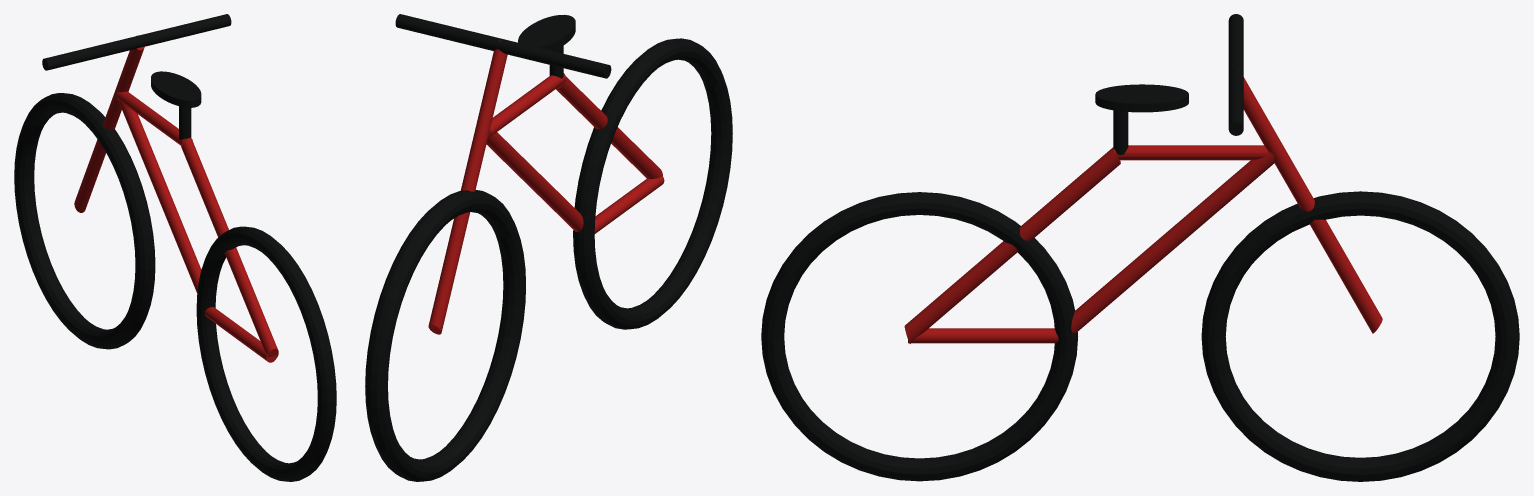
The model's file is Fahrrad.obj.
3 renders of one model, left to right at view 1: azimuth 30°, elevation 25°; view 2: azimuth 150°, elevation 25°; view 3: azimuth 270°, elevation 25°, orthographic. The views are drawn at different scales.
Parts seen in each view (by area): view 1: ReifenVorn_Torus.002, ReifenHinten_Torus.001, RahmenHinten_Cylinder.003, RahmenVorn_Cylinder.006, Lenker_Cylinder.008, Lenkerstange_Cylinder.005, SattelMitStange_Cylinder.007, RahmenOben_Cylinder.004, RahmenUnten_Cylinder.002; view 2: ReifenVorn_Torus.002, ReifenHinten_Torus.001, Lenkerstange_Cylinder.005, Lenker_Cylinder.008, RahmenVorn_Cylinder.006, RahmenHinten_Cylinder.003, SattelMitStange_Cylinder.007, RahmenOben_Cylinder.004, RahmenUnten_Cylinder.002; view 3: ReifenVorn_Torus.002, ReifenHinten_Torus.001, RahmenHinten_Cylinder.003, RahmenVorn_Cylinder.006, Lenkerstange_Cylinder.005, SattelMitStange_Cylinder.007, RahmenOben_Cylinder.004, RahmenUnten_Cylinder.002, Lenker_Cylinder.008.
Boxes of the visible parts, box(x1,y1,x2,y2) form: ReifenVorn_Torus.002: box(14, 93, 155, 349); ReifenHinten_Torus.001: box(196, 226, 336, 481); RahmenHinten_Cylinder.003: box(181, 138, 278, 357); RahmenVorn_Cylinder.006: box(115, 89, 201, 292); Lenker_Cylinder.008: box(42, 14, 231, 70); Lenkerstange_Cylinder.005: box(74, 35, 144, 212); SattelMitStange_Cylinder.007: box(151, 71, 201, 139); RahmenOben_Cylinder.004: box(116, 91, 192, 146); RahmenUnten_Cylinder.002: box(204, 307, 276, 362); ReifenVorn_Torus.002: box(365, 190, 525, 481); ReifenHinten_Torus.001: box(573, 38, 732, 329); Lenkerstange_Cylinder.005: box(428, 40, 507, 334); Lenker_Cylinder.008: box(395, 14, 611, 78); RahmenVorn_Cylinder.006: box(486, 127, 583, 231); RahmenHinten_Cylinder.003: box(556, 76, 662, 178); SattelMitStange_Cylinder.007: box(518, 14, 575, 78); RahmenOben_Cylinder.004: box(490, 73, 566, 136); RahmenUnten_Cylinder.002: box(594, 176, 664, 233); ReifenVorn_Torus.002: box(1201, 191, 1519, 481); ReifenHinten_Torus.001: box(761, 192, 1077, 481); RahmenHinten_Cylinder.003: box(904, 147, 1120, 343); RahmenVorn_Cylinder.006: box(1071, 151, 1274, 333); Lenkerstange_Cylinder.005: box(1239, 69, 1382, 333); SattelMitStange_Cylinder.007: box(1095, 84, 1188, 154); RahmenOben_Cylinder.004: box(1114, 145, 1267, 160); RahmenUnten_Cylinder.002: box(908, 328, 1058, 343); Lenker_Cylinder.008: box(1228, 14, 1243, 135).
Size of the model in its own units: 1.74 by 3.1 by 5.16.
